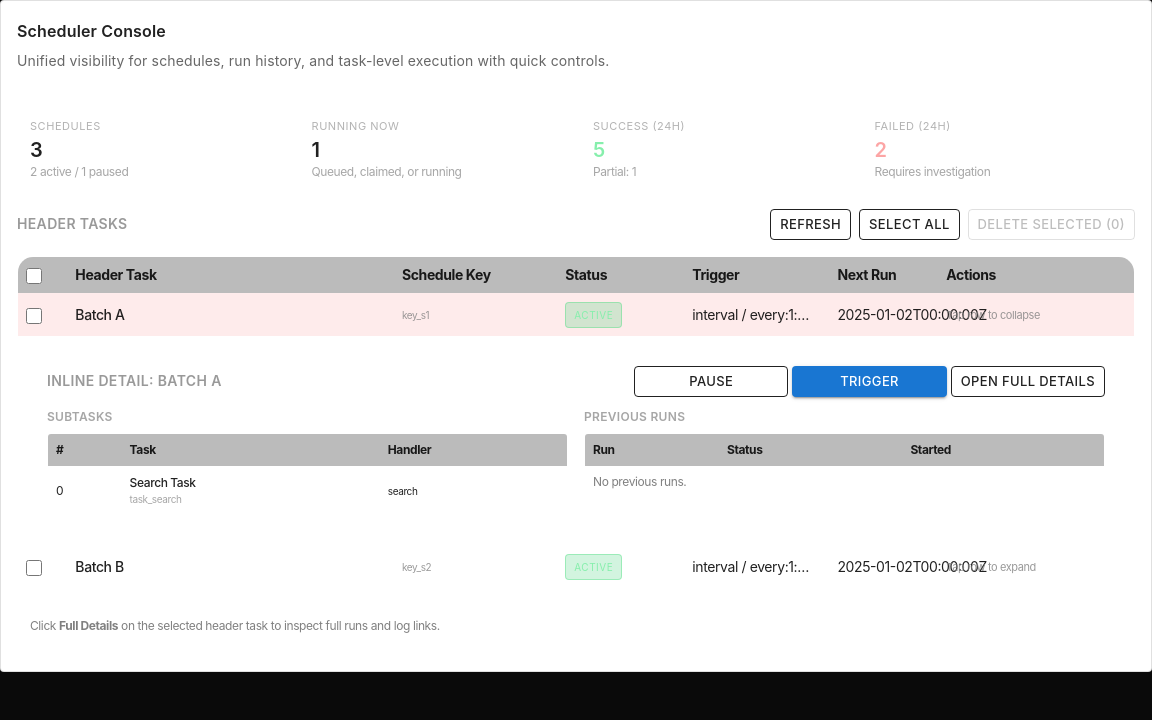
SchedulerConsole — selection controls › Select All button changes to Deselect All when all selected
Click the button "Select All" at coordinates (909, 224), box [859, 209, 960, 240]
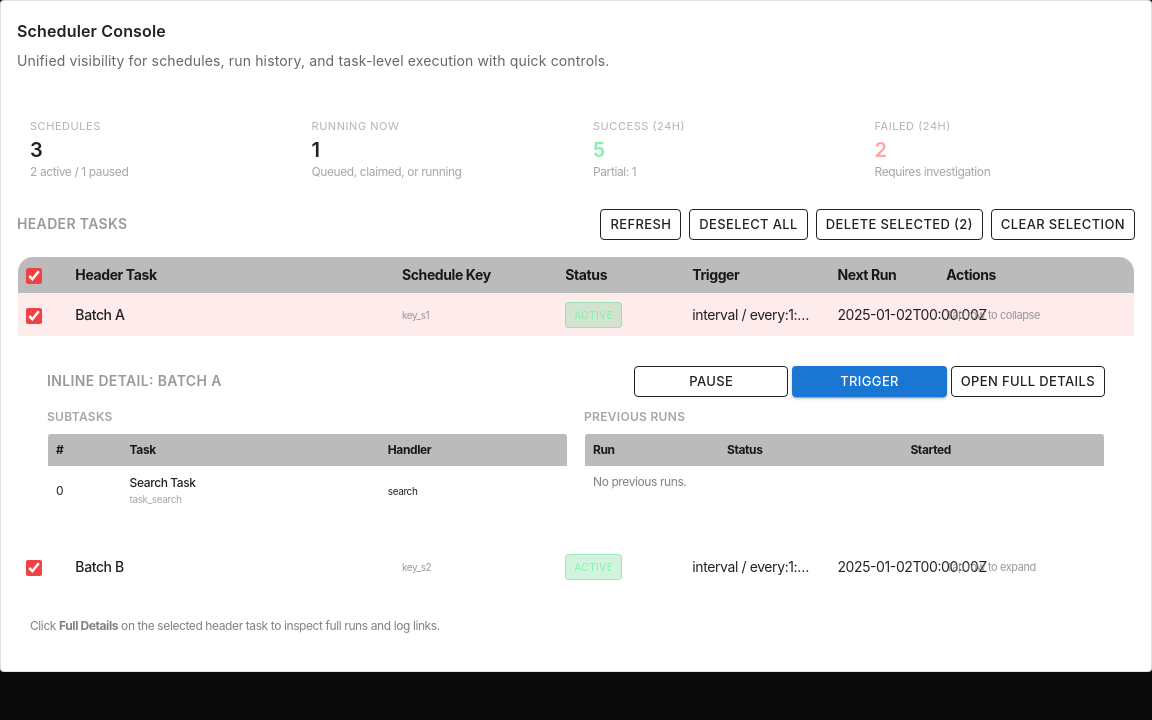
Expected: the button "Deselect All" is shown, [689, 209, 808, 240]
